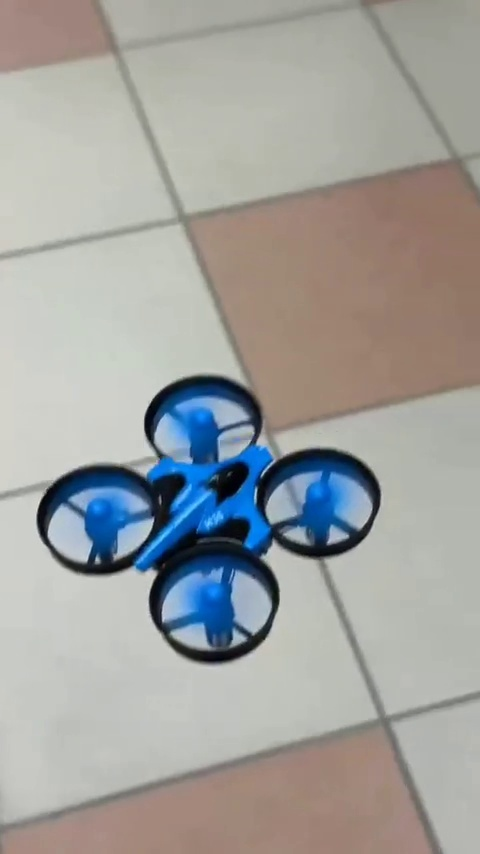drone: (32, 376, 384, 662)
